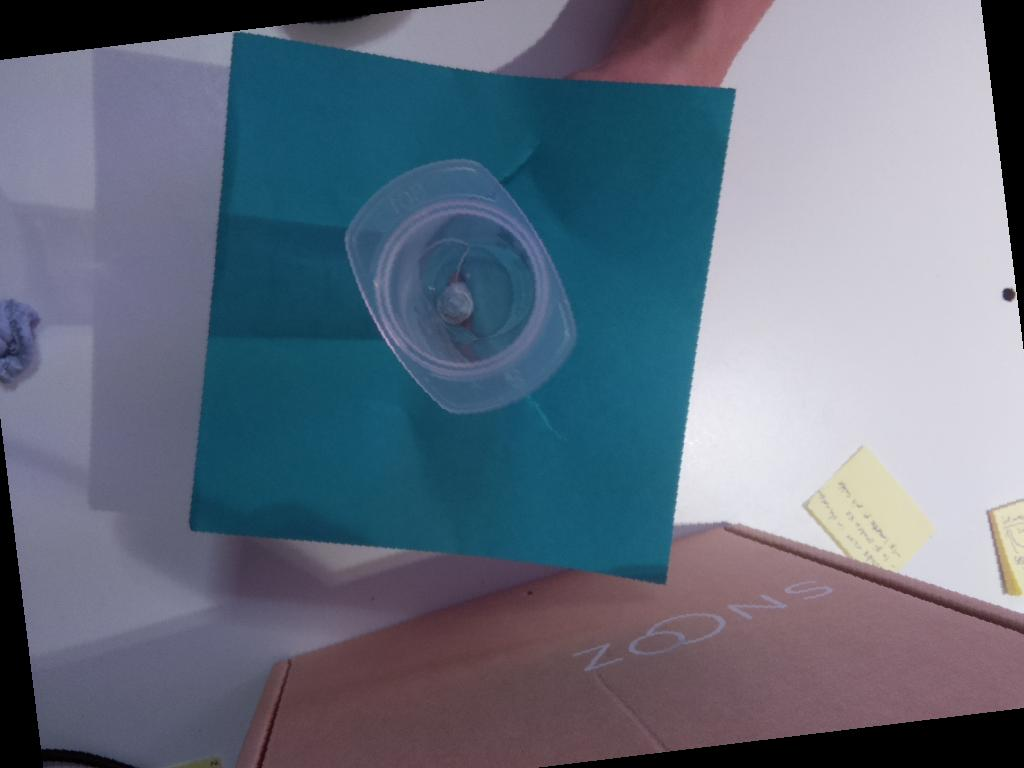clean: (342, 158, 580, 416)
